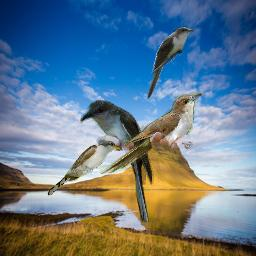Cuckoo: (80, 100, 154, 222), (99, 92, 202, 174), (46, 140, 123, 196), (145, 26, 195, 100)
